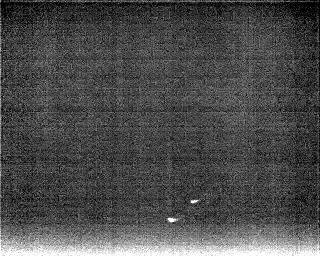BIRD: (188, 196, 201, 207)
